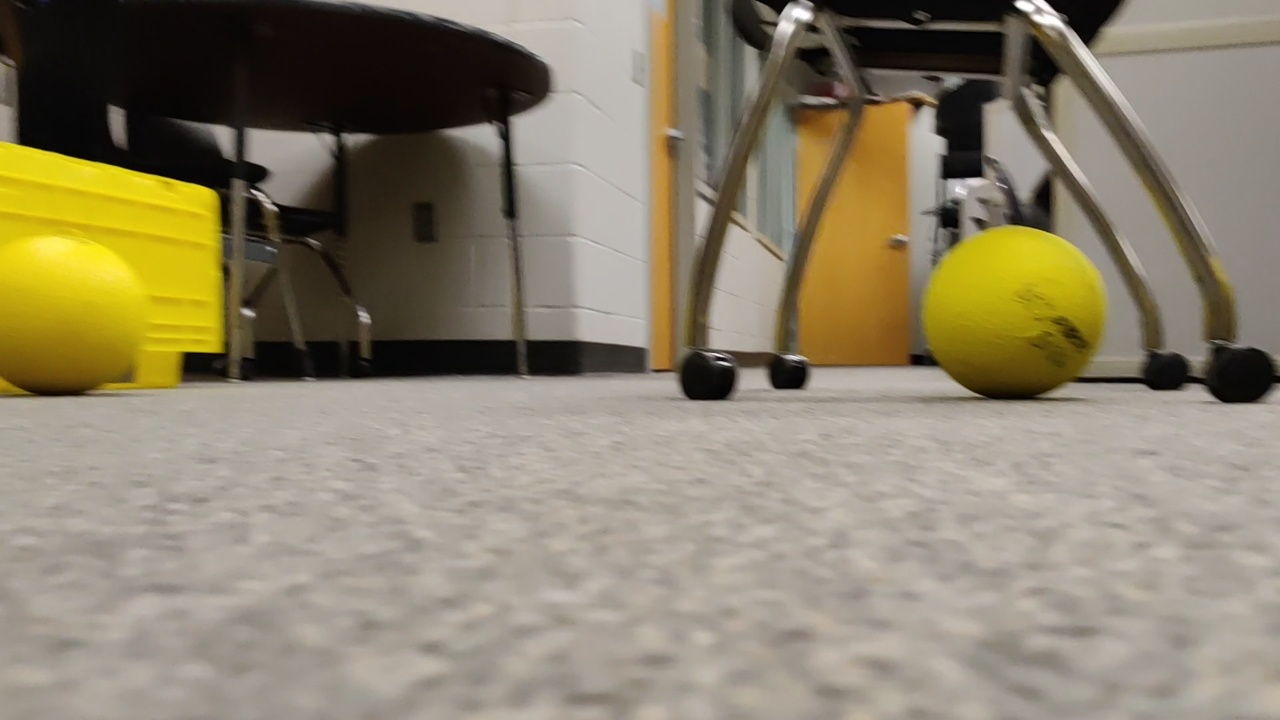Ball: (911, 220, 1125, 416), (1, 236, 146, 397)
